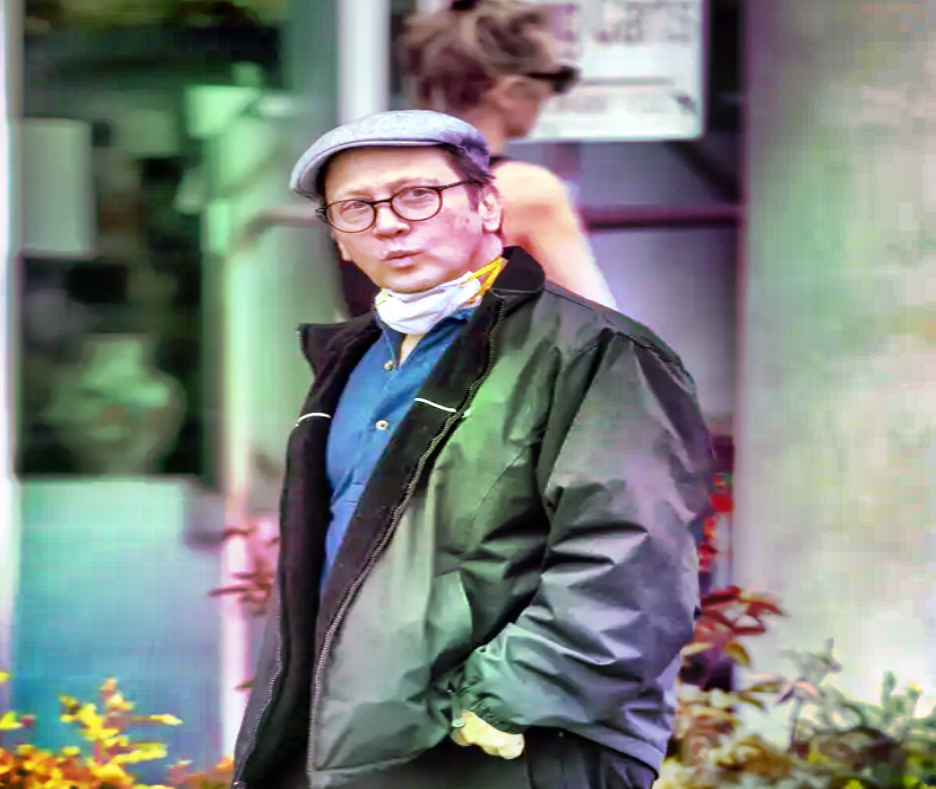mask_weared_incorrect: (287, 104, 526, 339)
